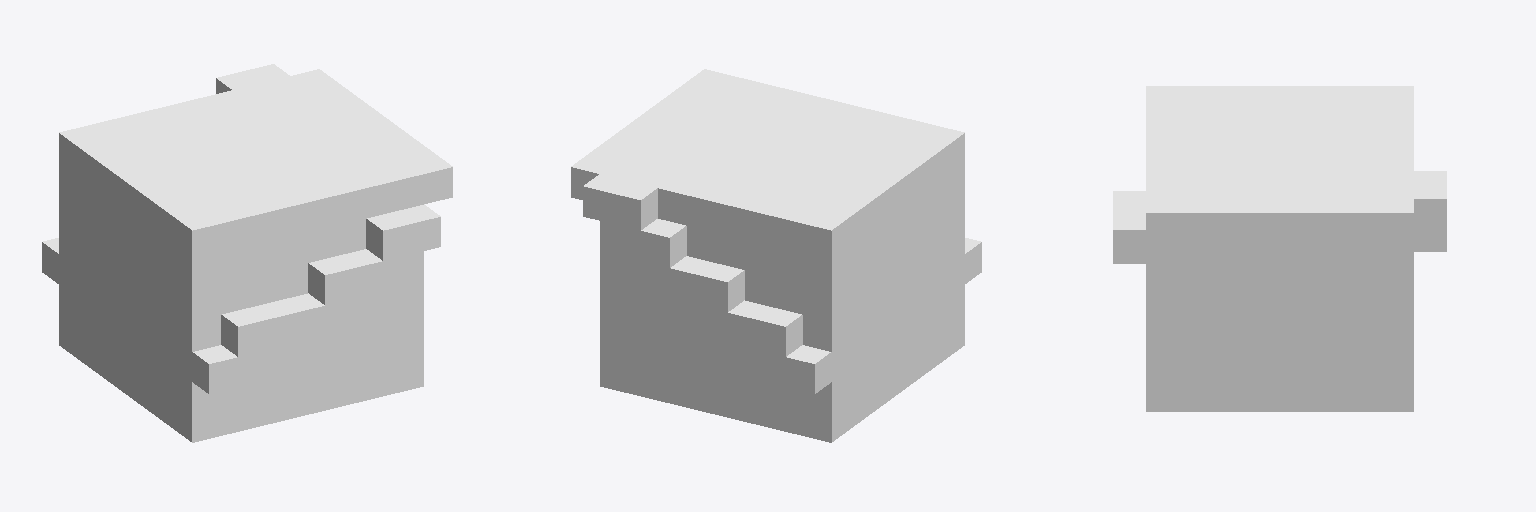
Rendered from LavaJones_Torso.obj.
3 renders of one model, left to right at view 1: azimuth 30°, elevation 25°; view 2: azimuth 150°, elevation 25°; view 3: azimuth 270°, elevation 25°, orthographic.
Parts seen in each view (by area): view 1: object 1; view 2: object 1; view 3: object 1.
Boxes of the visible parts, box(x1,y1,x2,y2) form: object 1: box(42, 64, 452, 442); object 1: box(571, 69, 981, 442); object 1: box(1113, 86, 1446, 411).
Size of the model in its own units: 0.9 by 0.7 by 1.